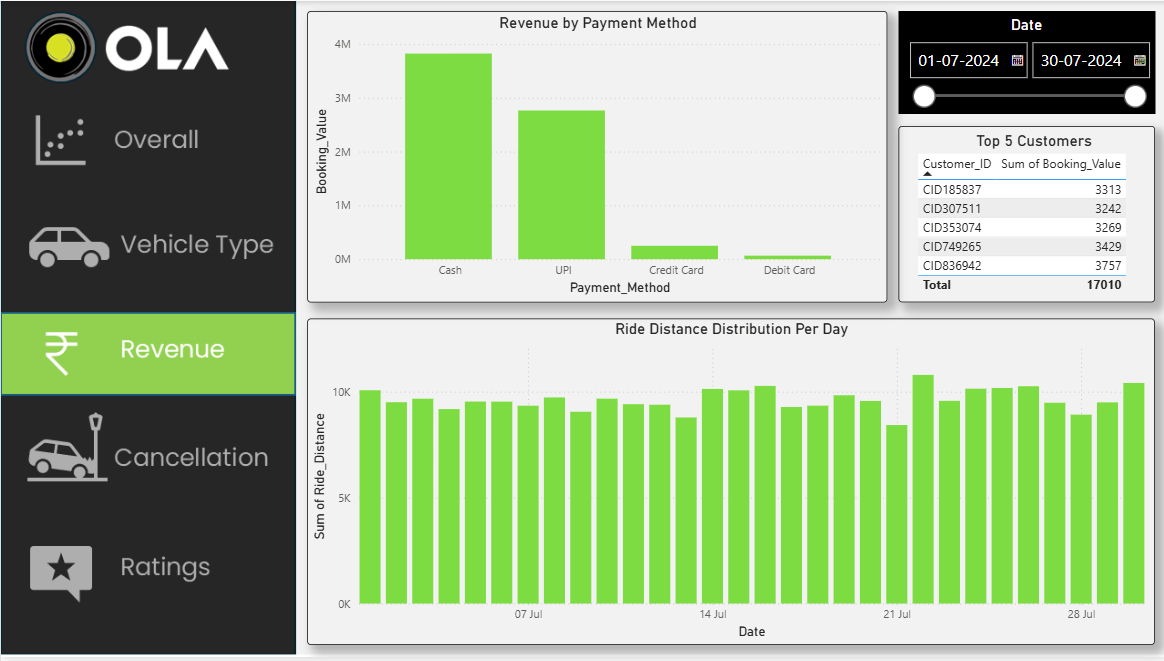

Layout of this report page (visuals, bound fields, positions):
{"tool":"powerbi","page":{"name":"Revenue","canvas":[1280,720],"ordinal":2},"visuals":[{"type":"actionButton","box":[0,219.6,322.1,94.1],"z":0},{"type":"actionButton","box":[0,445.2,322.1,94.1],"z":1000},{"type":"actionButton","box":[0,575.5,322.1,94.1],"z":2000},{"type":"actionButton","box":[0,103.8,322.1,94.1],"z":3000},{"type":"columnChart","title":"Revenue by Payment Method","fields":{"Category":["Bookings.Payment_Method"],"Y":["Sum(Bookings.Booking_Value)"]},"box":[336.2,11,636.7,319.7],"z":4000},{"type":"columnChart","title":"Ride Distance Distribution Per Day","fields":{"Category":["Bookings.Date"],"Y":["Sum(Bookings.Ride_Distance)"]},"box":[336.2,348.5,930.4,358.1],"z":5000},{"type":"slicer","title":"Date","fields":{"Values":["Bookings.Date"]},"box":[985.3,11,281.3,112.5],"z":6000},{"type":"tableEx","title":"Top 5 Customers","fields":{"Values":["Bookings.Customer_ID","Sum(Bookings.Booking_Value)"]},"box":[985.3,137.2,281.3,193.5],"z":7000}]}

Visuals, with their boxes in screenshot pixels (x1, y1, x2, y2), scaled from the page's 1280x720 canvas onto the 1164x661 screenshot:
actionButton: locate(0, 202, 293, 288)
actionButton: locate(0, 409, 293, 495)
actionButton: locate(0, 528, 293, 615)
actionButton: locate(0, 95, 293, 182)
"Revenue by Payment Method" columnChart: locate(306, 10, 885, 304)
"Ride Distance Distribution Per Day" columnChart: locate(306, 320, 1152, 649)
"Date" slicer: locate(896, 10, 1152, 113)
"Top 5 Customers" tableEx: locate(896, 126, 1152, 304)
